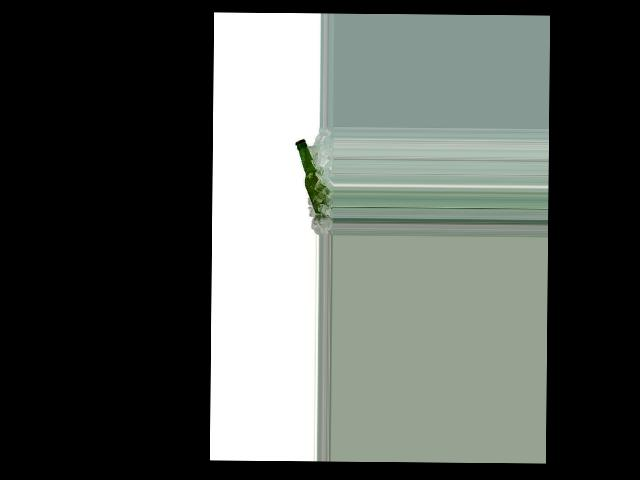beer: (295, 138, 324, 218)
